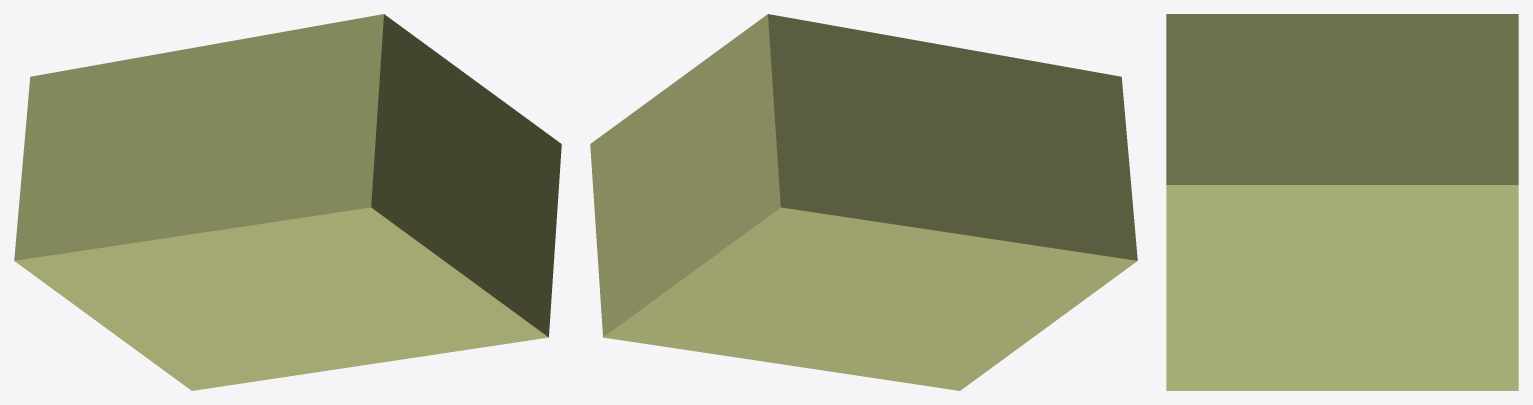
3 views of the same model, side by side, from view 1: azimuth 30°, elevation 25°; view 2: azimuth 150°, elevation 25°; view 3: azimuth 270°, elevation 25° (orthographic).
Visible parts, largest first — view 1: 0_1_2_0_0_2_2_0_2_0_3; view 2: 0_1_2_0_0_2_2_0_2_0_3; view 3: 0_1_2_0_0_2_2_0_2_0_3.
Boxes of the visible parts, x1,y1,x2,y2 form: 0_1_2_0_0_2_2_0_2_0_3: (14,14,561,390); 0_1_2_0_0_2_2_0_2_0_3: (590,14,1137,390); 0_1_2_0_0_2_2_0_2_0_3: (1166,14,1518,390).
Size of the model in its own units: 7.21 by 3.98 by 6.
